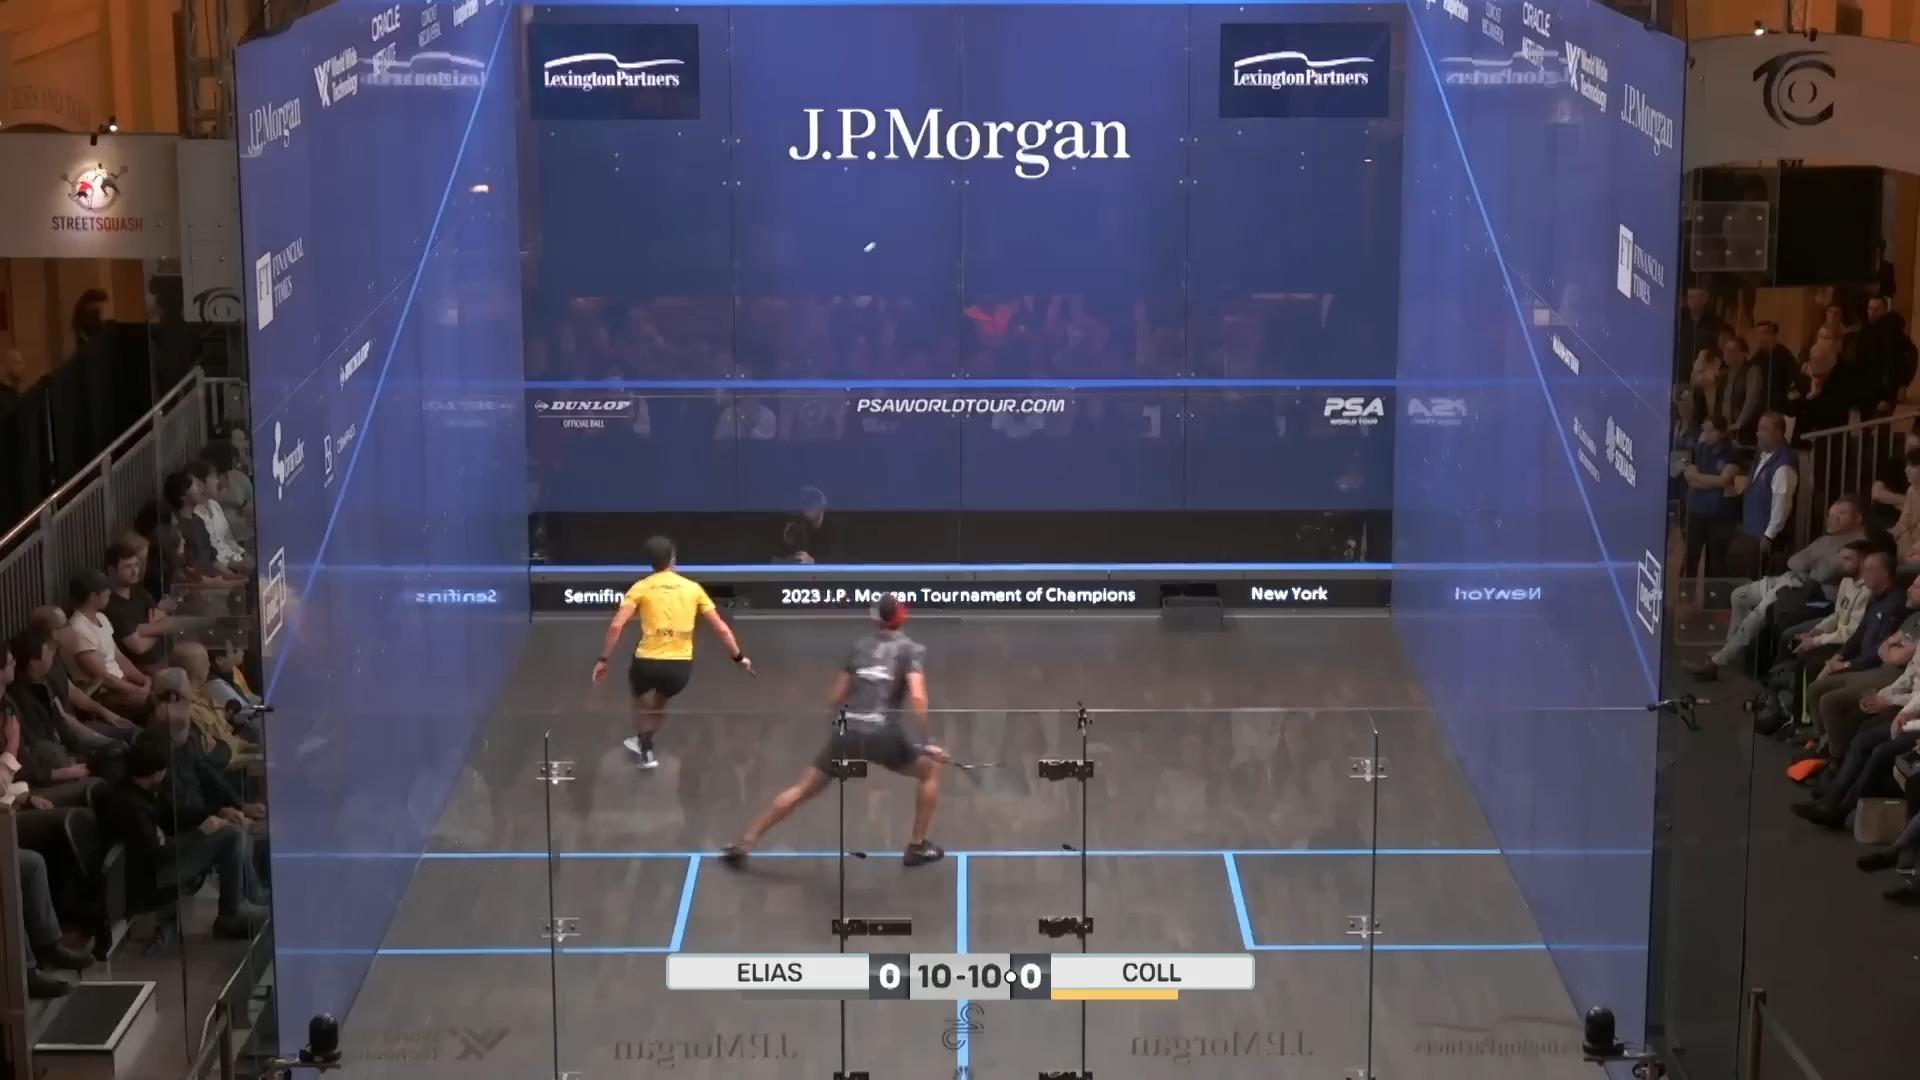Racket: (930, 749, 1038, 814)
